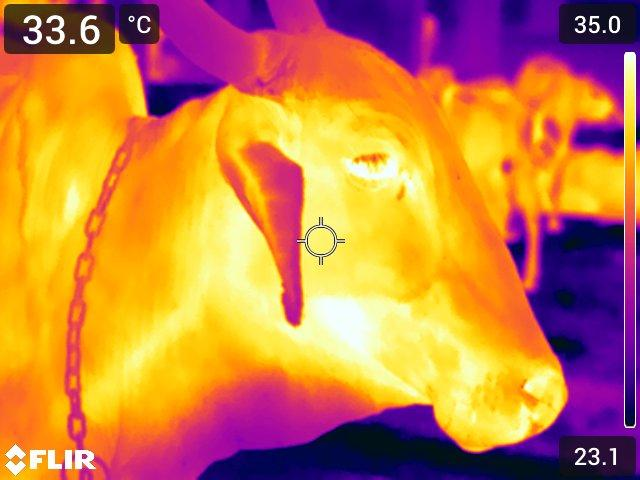ear: (200, 100, 320, 338)
eyes: (327, 122, 425, 214)
neck: (50, 103, 166, 453)
